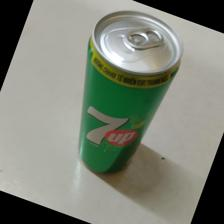7up: (78, 9, 184, 177)
